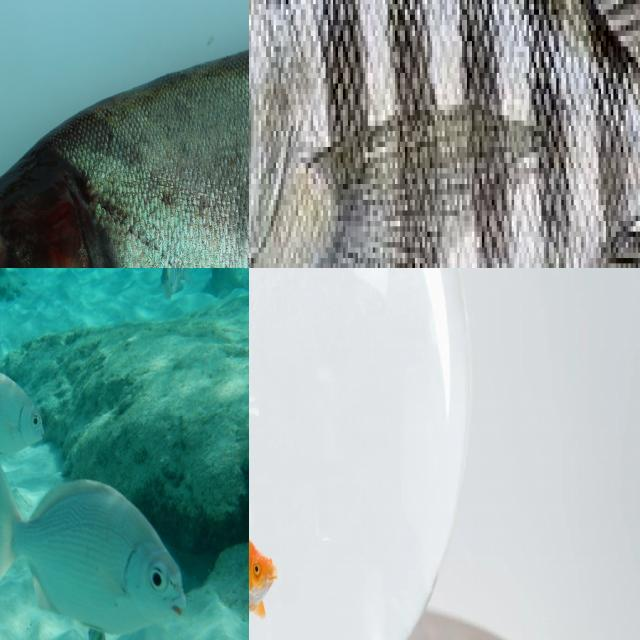fish: (249, 0, 640, 268), (0, 0, 249, 268), (0, 350, 45, 457), (292, 361, 338, 422)
